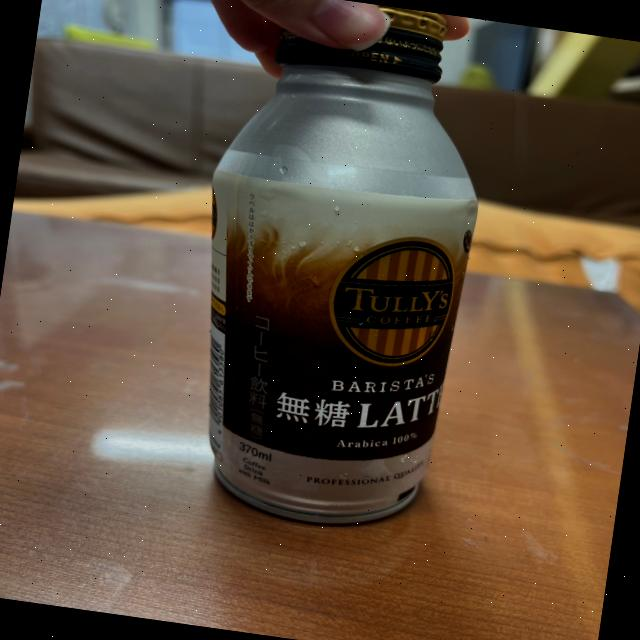coffee-latte: (169, 0, 503, 547)
